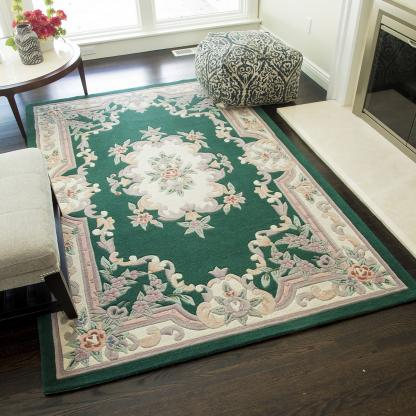Carpet: (26, 73, 414, 392)
